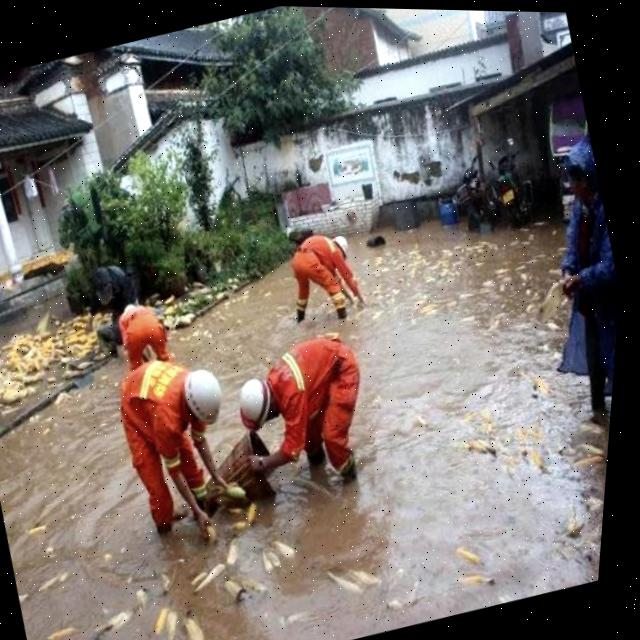civilian: (484, 122, 632, 447)
rescuer: (65, 334, 256, 552), (203, 304, 403, 511), (264, 206, 384, 335), (76, 263, 206, 380)
